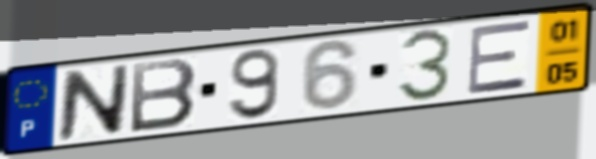3: (393, 26, 455, 105)
6: (297, 37, 366, 115)
9: (226, 46, 284, 123)
B: (127, 56, 201, 136)
E: (465, 17, 532, 97)
N: (54, 62, 134, 143)
